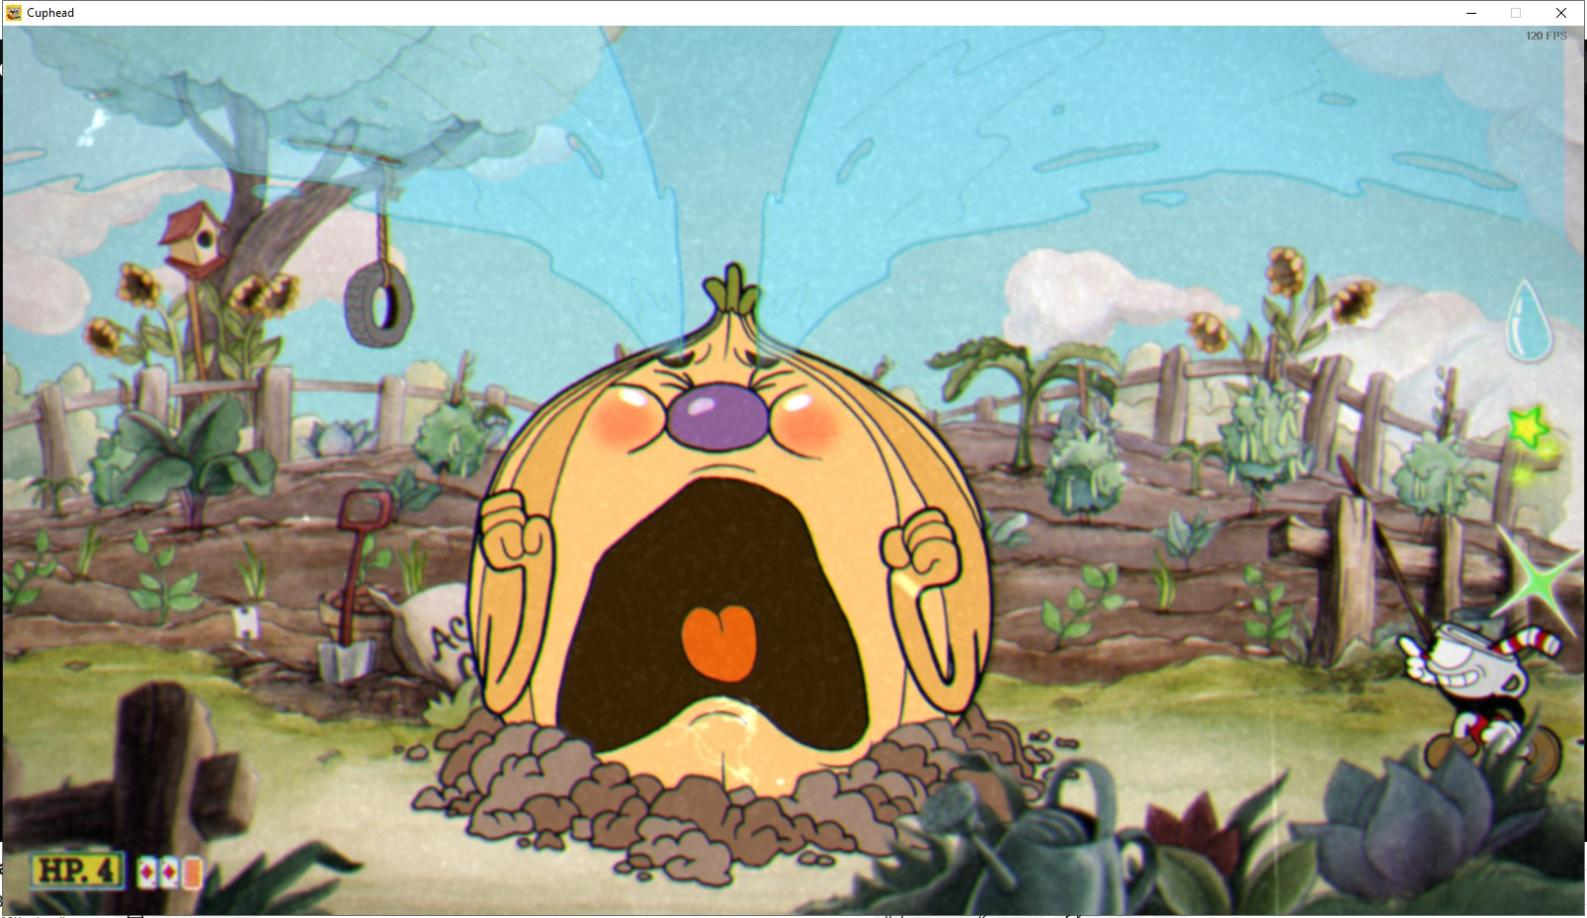hp4: (89, 852, 126, 892)
onion_boss: (442, 261, 1008, 830)
player: (1392, 613, 1564, 792)
rain: (1505, 274, 1564, 375)
